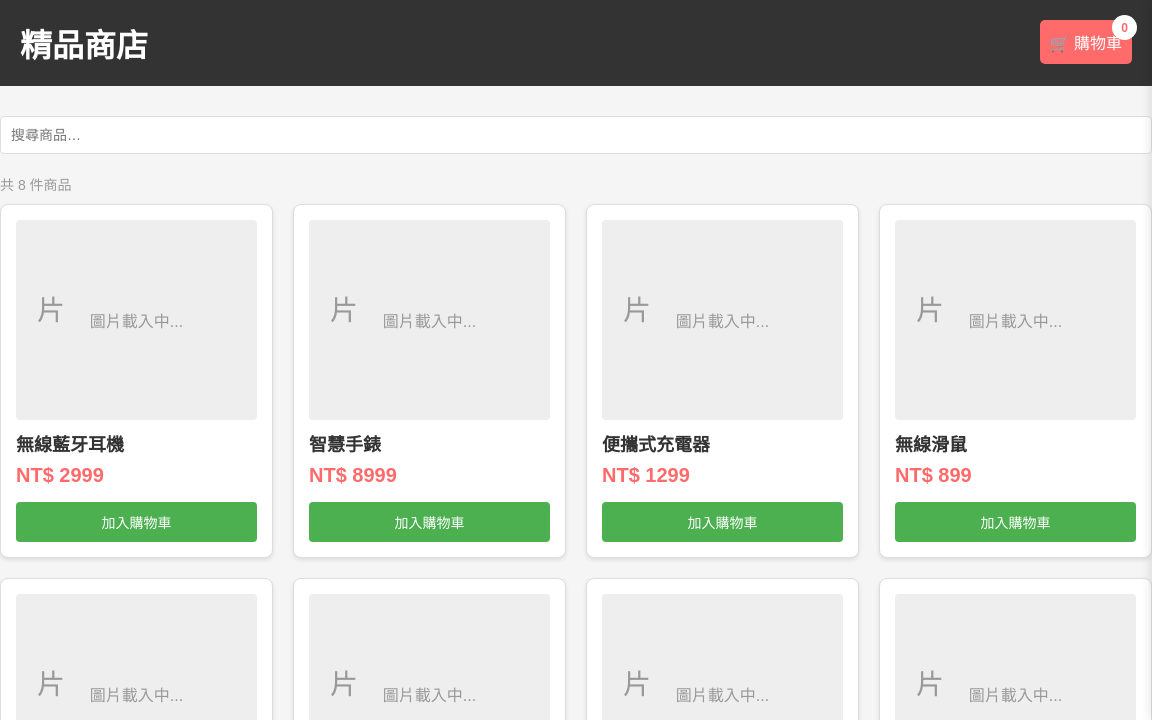
Test case: Ticket 06: change quantity repeatedly or type it directly › rejects negative input and keeps the previous quantity
Click the button "加入購物車" below "NT$ 2999".
click(136, 522)  # box [16, 502, 257, 542]
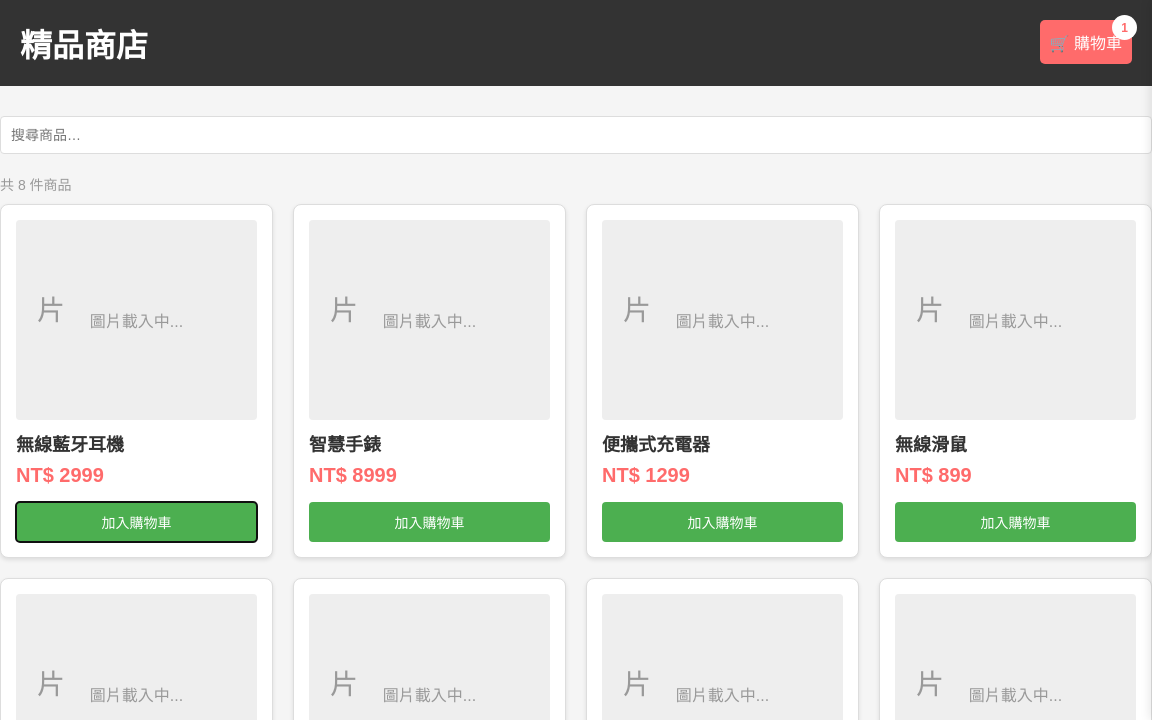
Click the button with aria-label "開啟購物車".
click(1086, 42)  # box [1040, 20, 1132, 64]
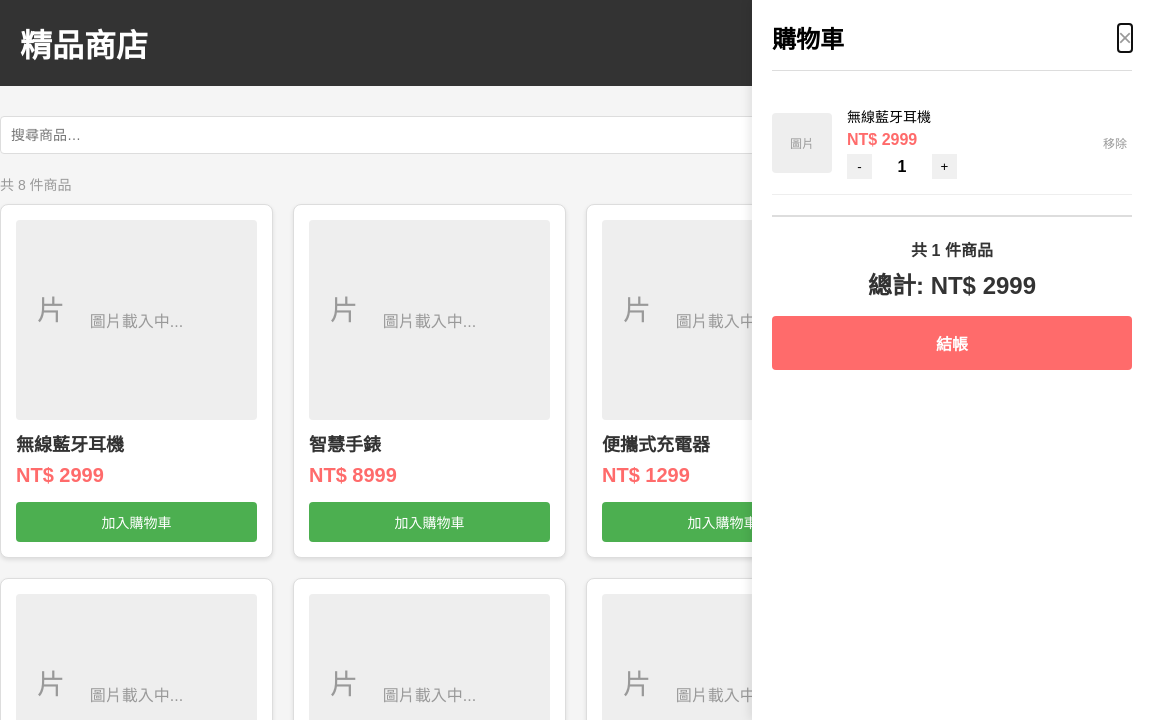
Click the button "+".
click(944, 166)  # box [932, 154, 957, 179]
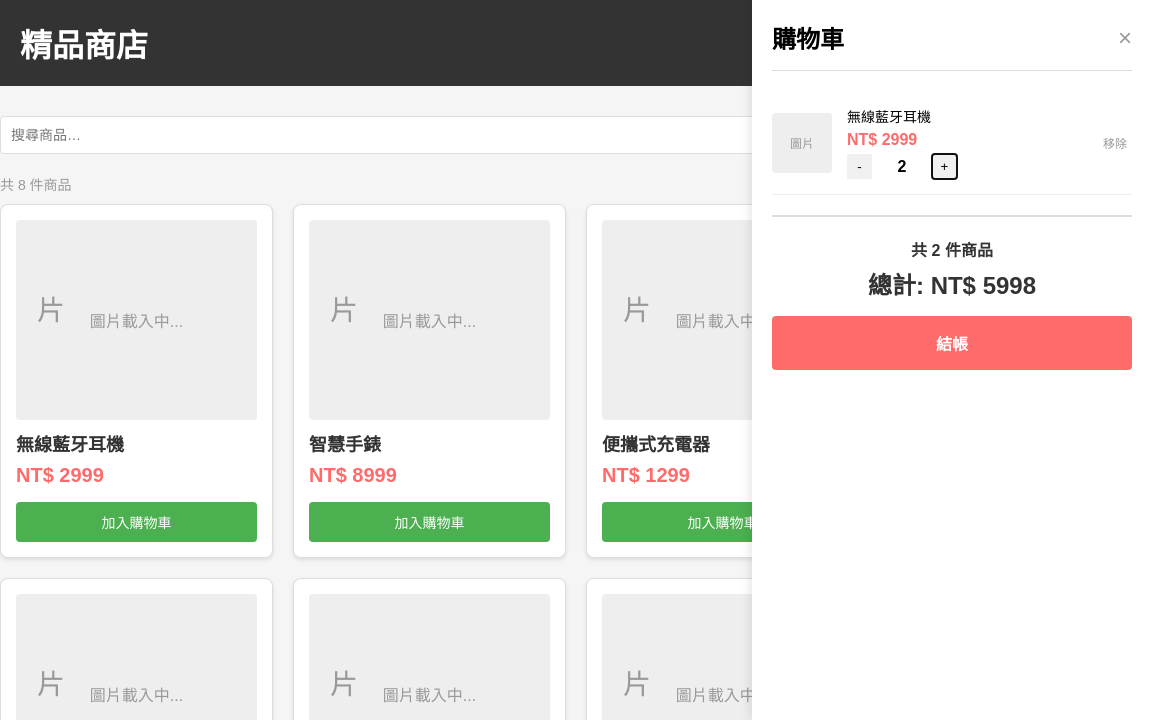
Replace the text in the number field named "無線藍牙耳機 數量" with "-3" at x=902, y=166, box [882, 158, 922, 176]
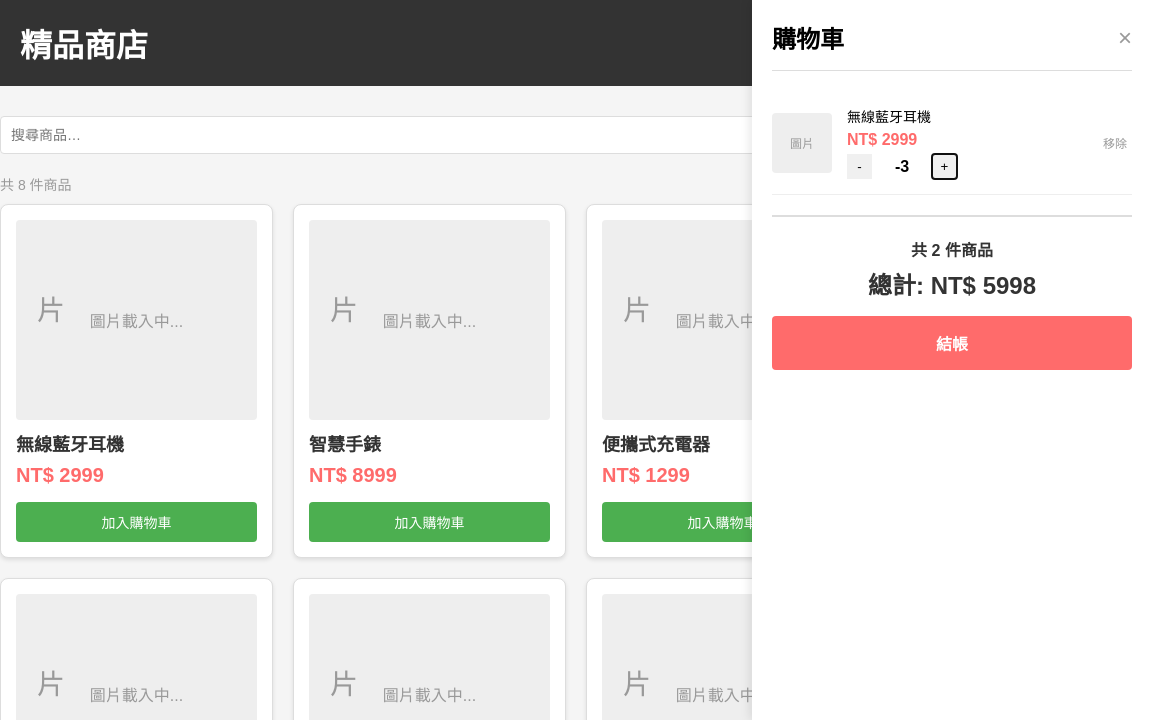
Leave the number field named "無線藍牙耳機 數量", box [882, 158, 922, 176]
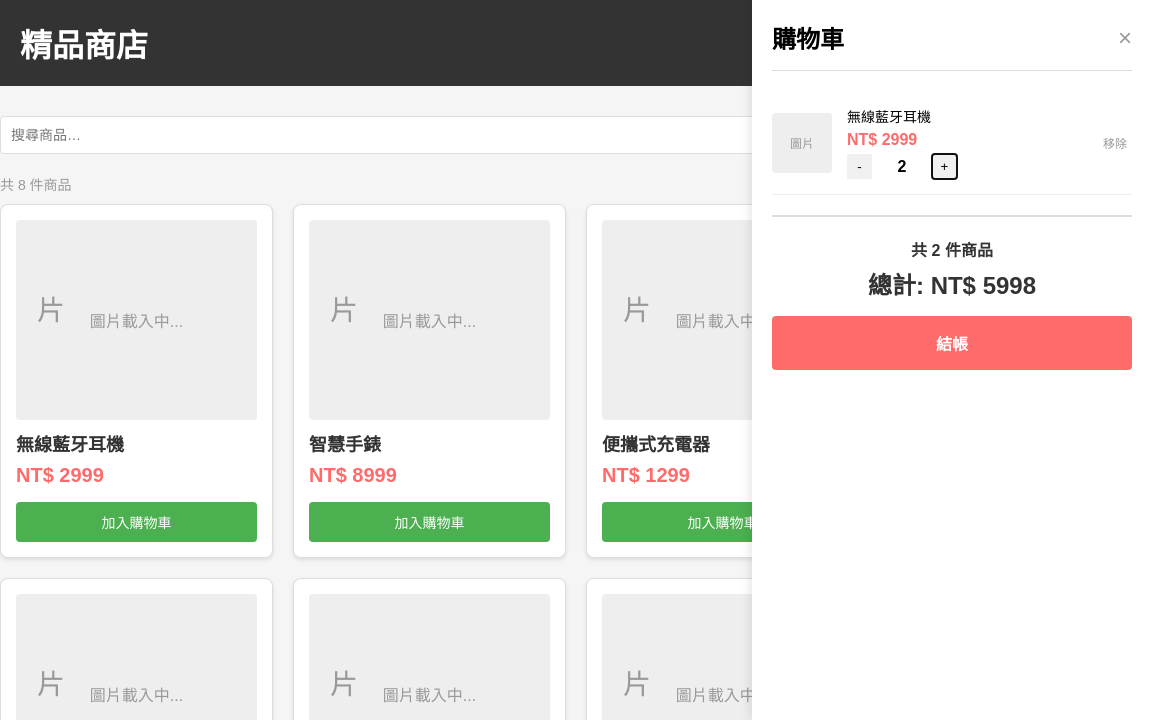
Expected: the dialog "購物車" shows "共 2 件商品", [752, 0, 1151, 719]
Expected: the number field named "無線藍牙耳機 數量" holds "2", [882, 158, 922, 176]
